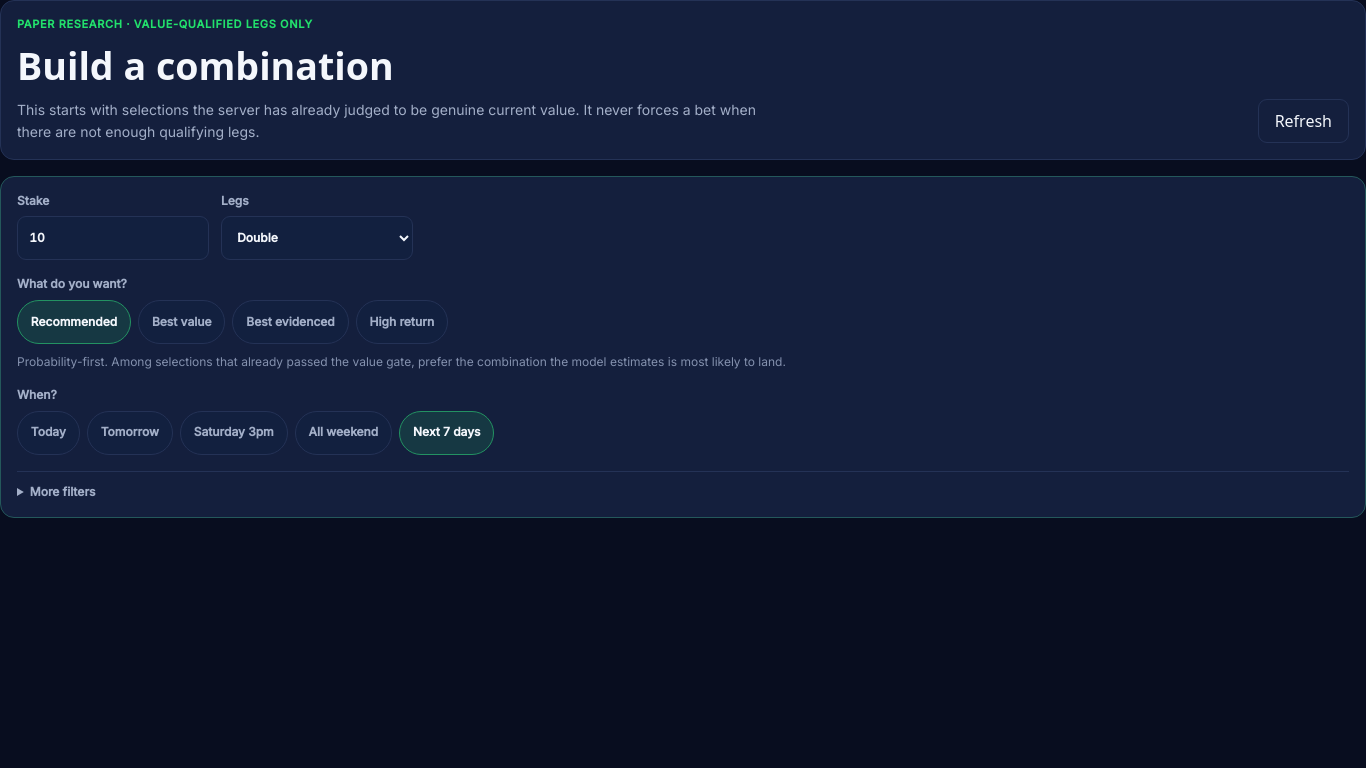
the rebuilt Bet Builder controls › counts filters hidden in the disclosure so they cannot silently alter results
The image size is (1366, 768).
Click the heading "More filters".
click(63, 491)  # box top-left (30, 484), bottom-right (96, 499)
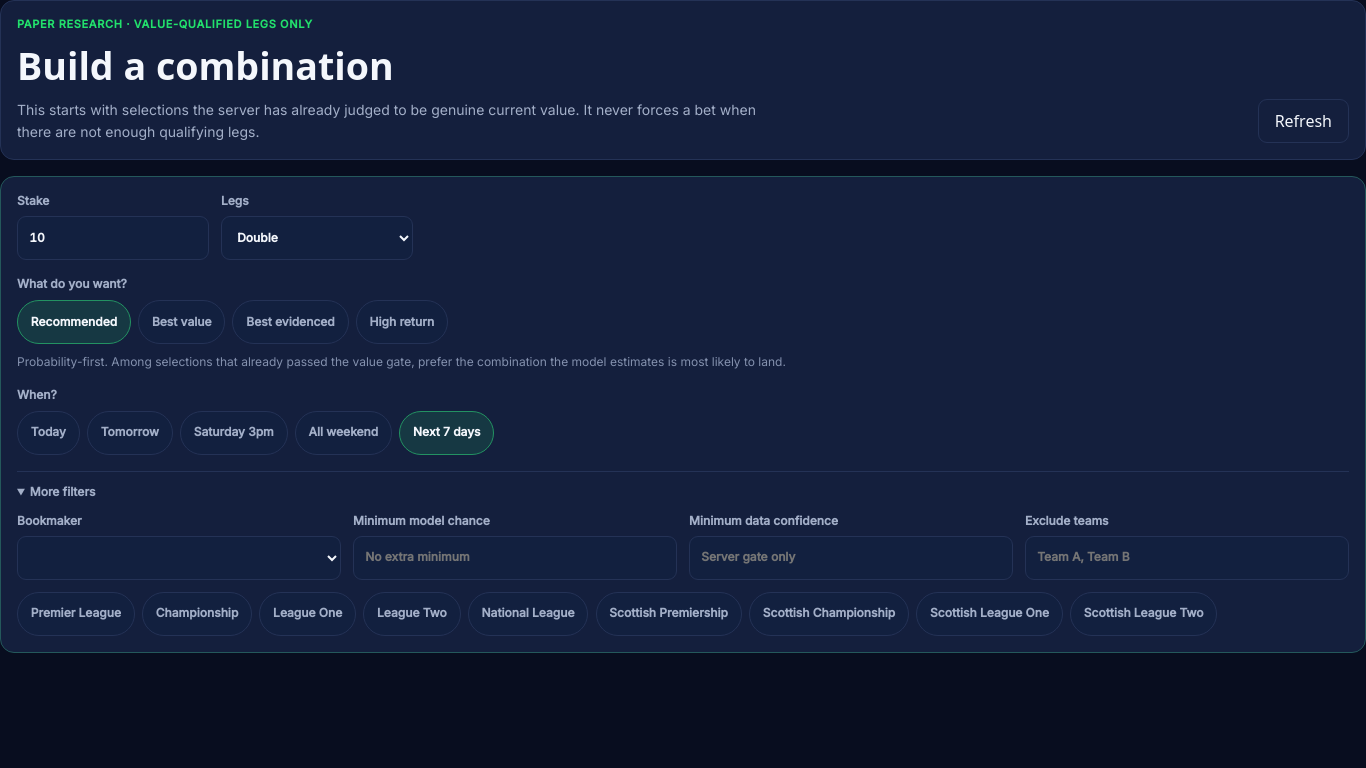
Type "40" into the number field labelled "Minimum model chance".
click(515, 558); type("40")  # box top-left (353, 536), bottom-right (677, 580)
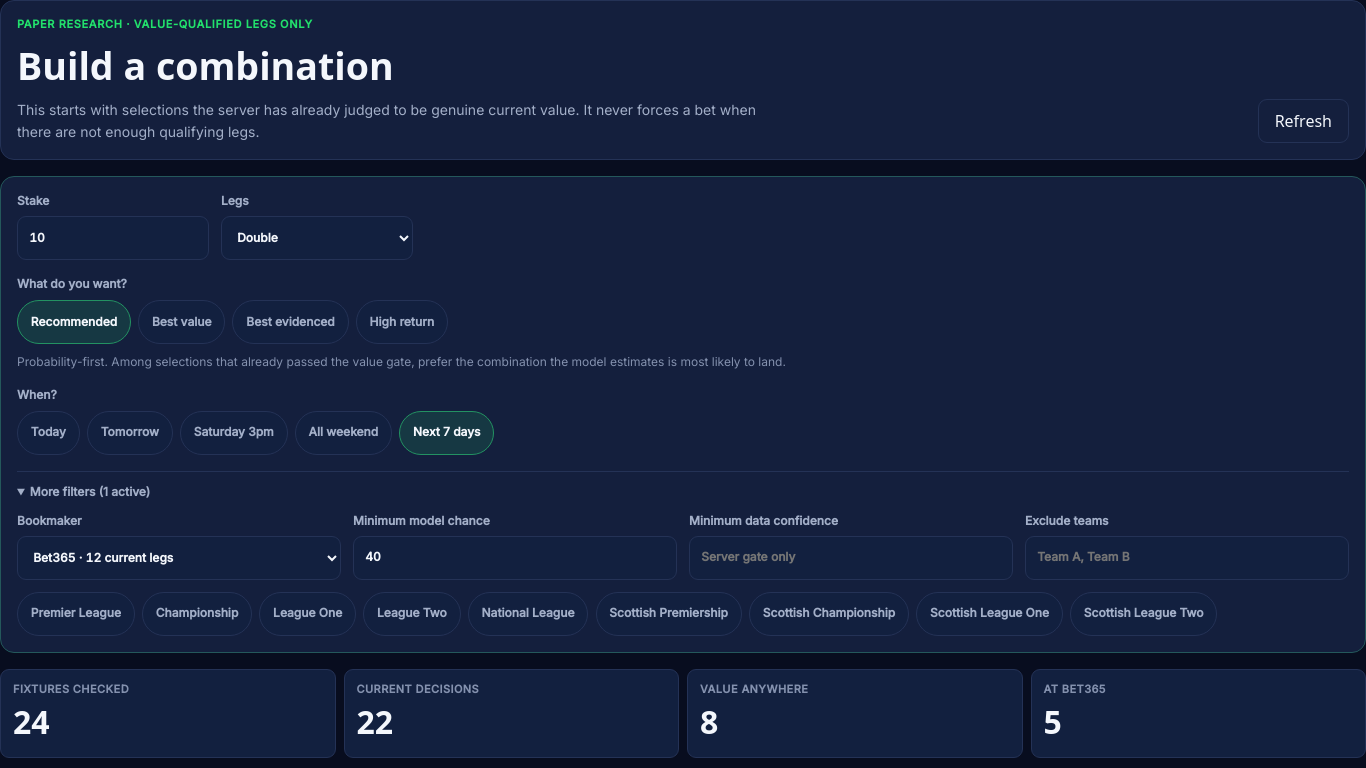
Check: the heading "More filters (1 active)" is shown, box top-left (17, 484), bottom-right (150, 500)
